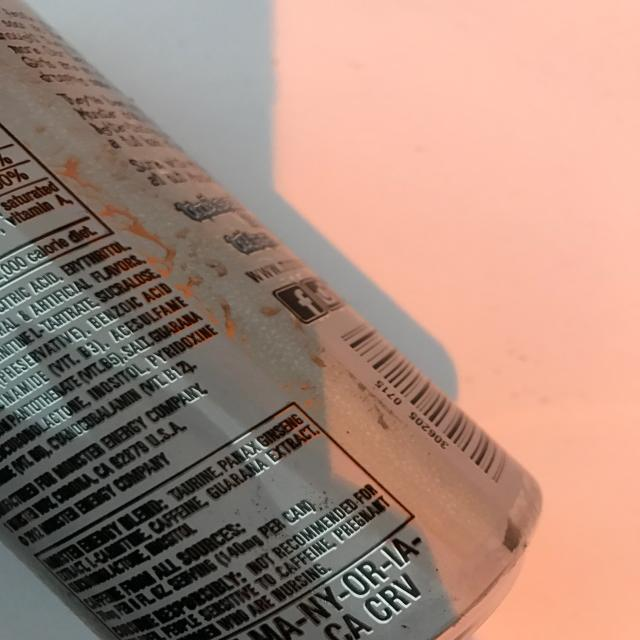metal: (3, 2, 548, 640)
